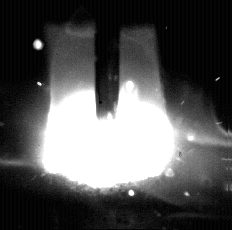arame: (95, 0, 121, 120)
poca: (44, 0, 175, 230)
